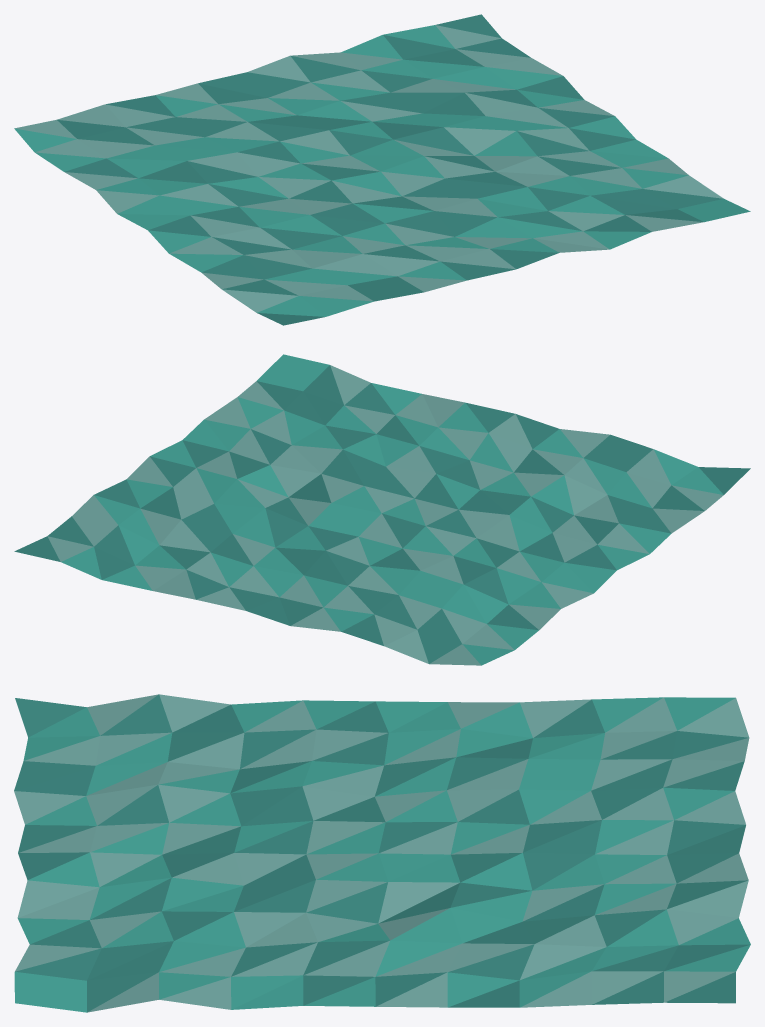
File: Water_big.fbx
3 views of the same model, one above another, from view 1: azimuth 30°, elevation 25°; view 2: azimuth 150°, elevation 25°; view 3: azimuth 270°, elevation 25° (orthographic). The views are drawn at different scales.
Parts seen in each view (by area): view 1: Water_big; view 2: Water_big; view 3: Water_big.
Boxes of the visible parts, x1,y1,x2,y2 form: Water_big: [14, 14, 750, 325]; Water_big: [14, 354, 750, 665]; Water_big: [14, 694, 750, 1012].
Bounding box in the file's own units: 2044 × 42.17 × 2044.
